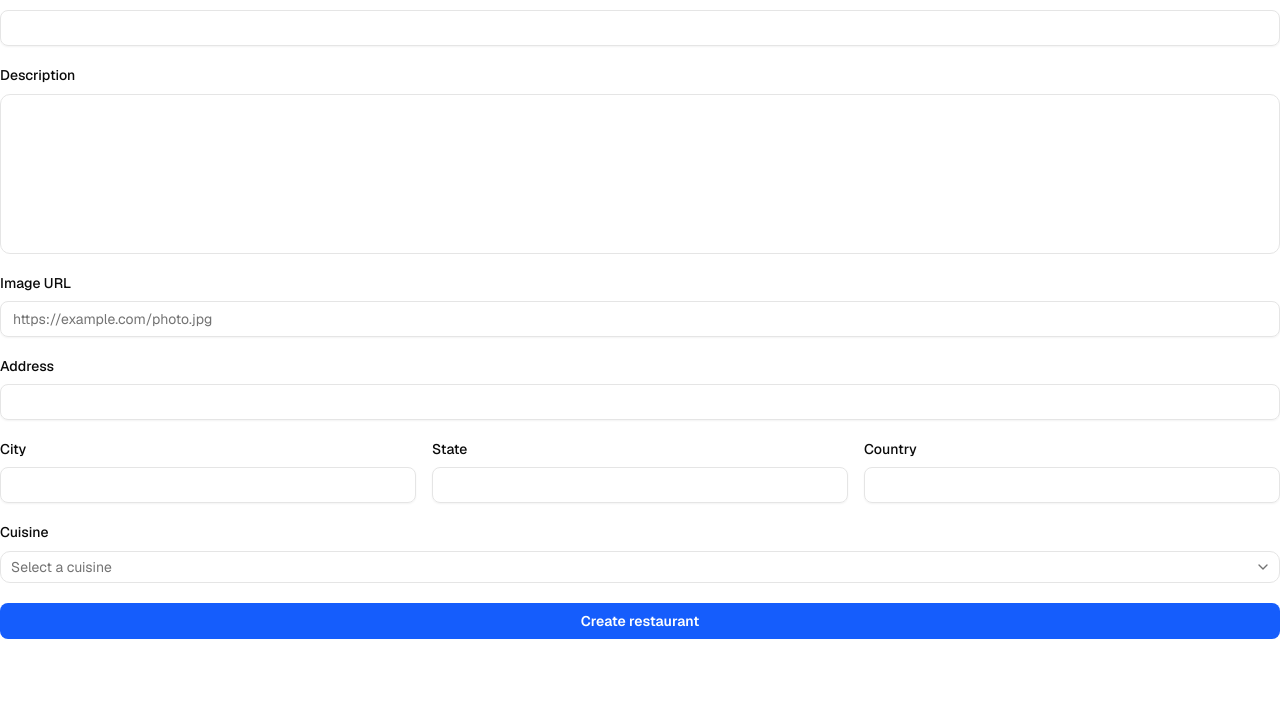
it: CreateRestaurantForm › shows validation errors when submitted empty
The image size is (1280, 703).
Step 1. Click the button "Create restaurant" → (640, 620), box x1=0 y1=602 x2=1279 y2=638
(page scrolled)
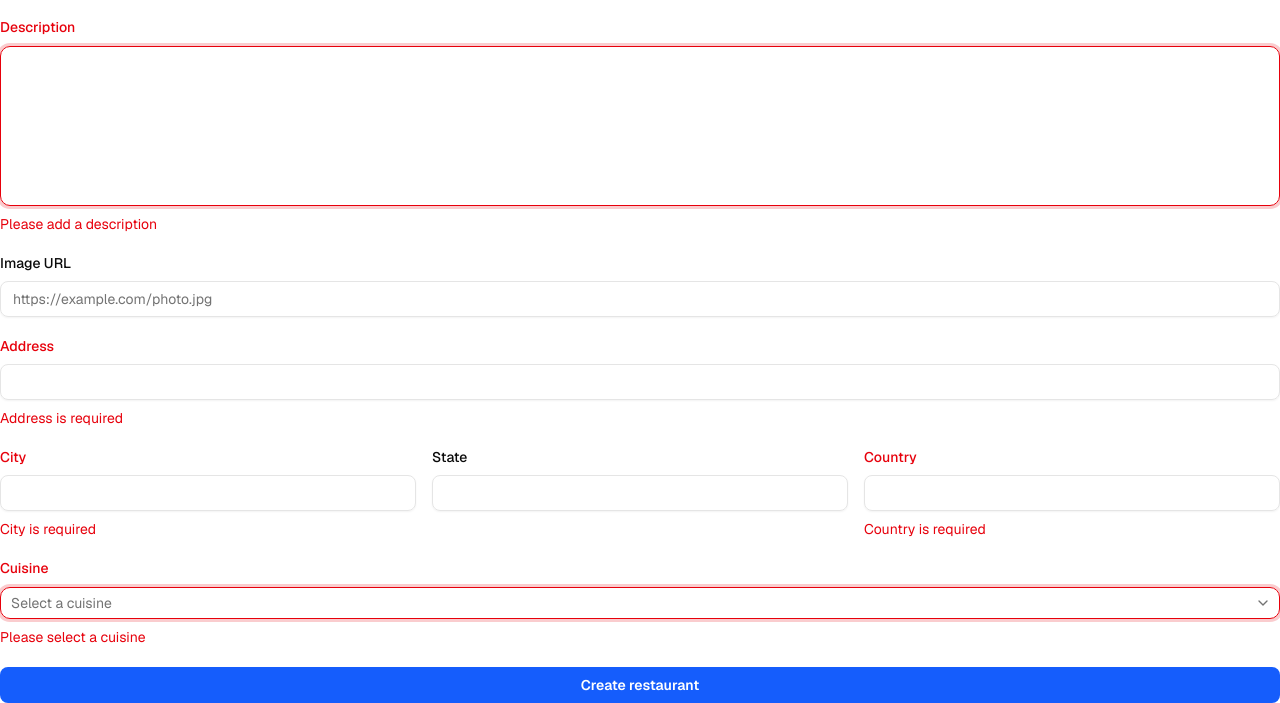
Now the text "Please add a description" is shown, box x1=0 y1=214 x2=157 y2=232
Now the text "Address is required" is shown, box x1=0 y1=409 x2=123 y2=427
Now the text "City is required" is shown, box x1=0 y1=520 x2=96 y2=538
